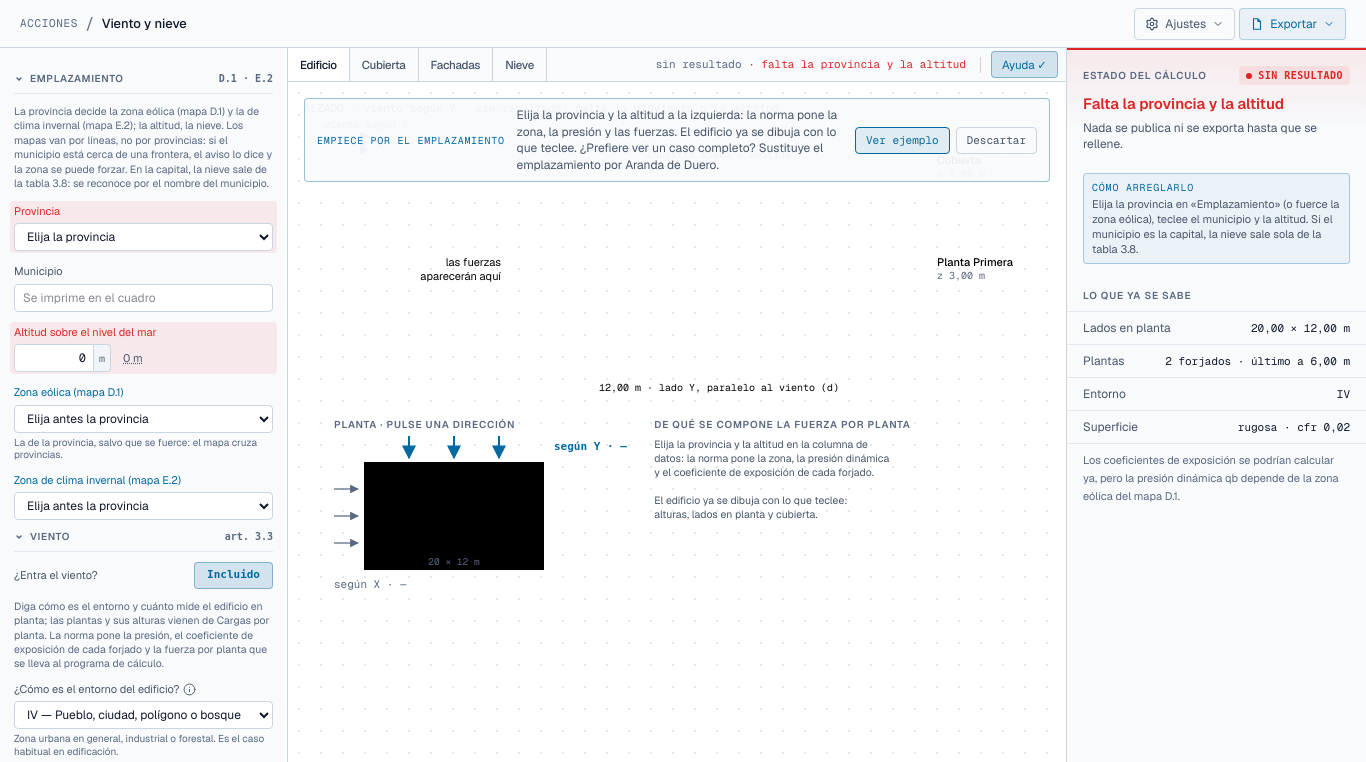
Viento y nieve — un solo sistema de unidades › los coeficientes traen el valor convertido, no sólo el rótulo convertido
Click the button "Ver ejemplo": [902, 140] box x1=855 y1=127 x2=950 y2=154
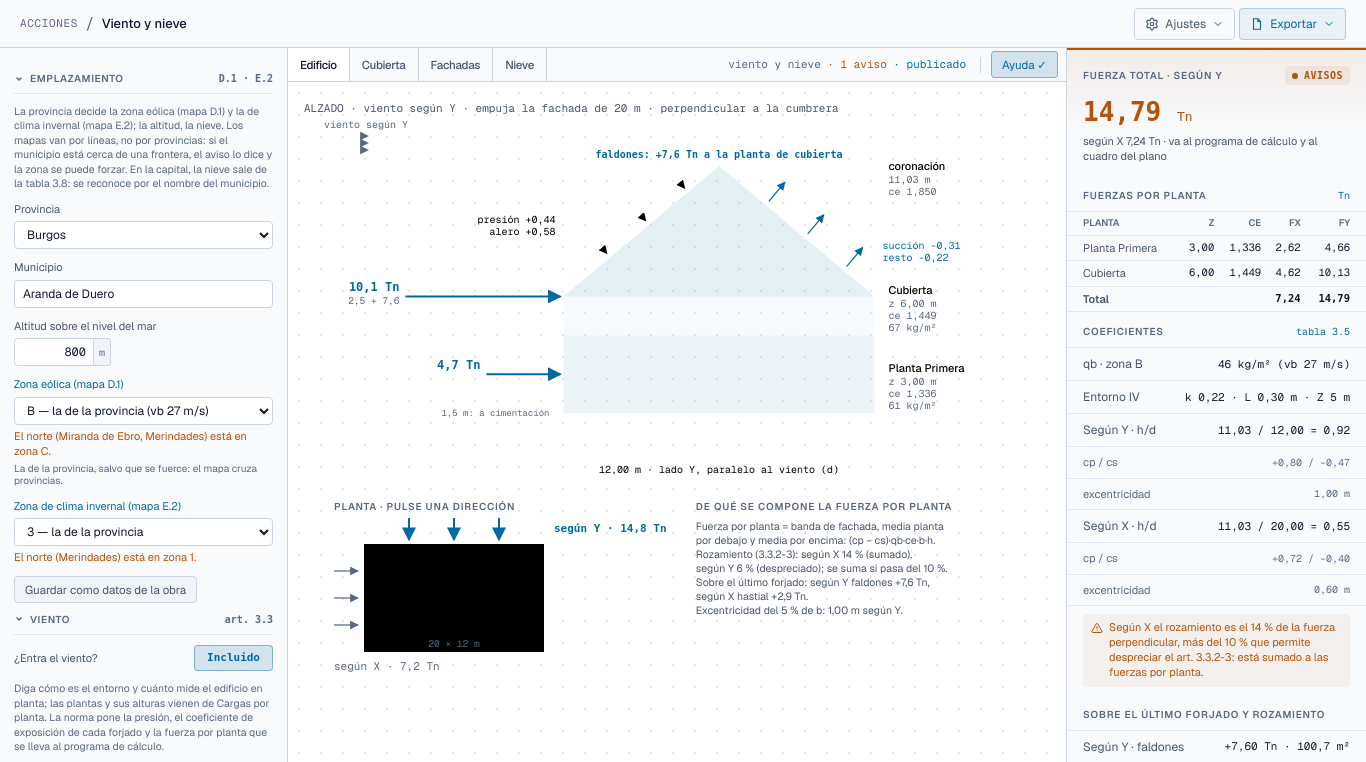
Expected: the text "qb · zona B 46 kg/m² (vb 27 m/s)" does not show "0,45", x1=1067 y1=348 x2=1365 y2=381
Now the text "qb · zona B 46 kg/m² (vb 27 m/s)" is shown, box x1=1067 y1=348 x2=1365 y2=381
